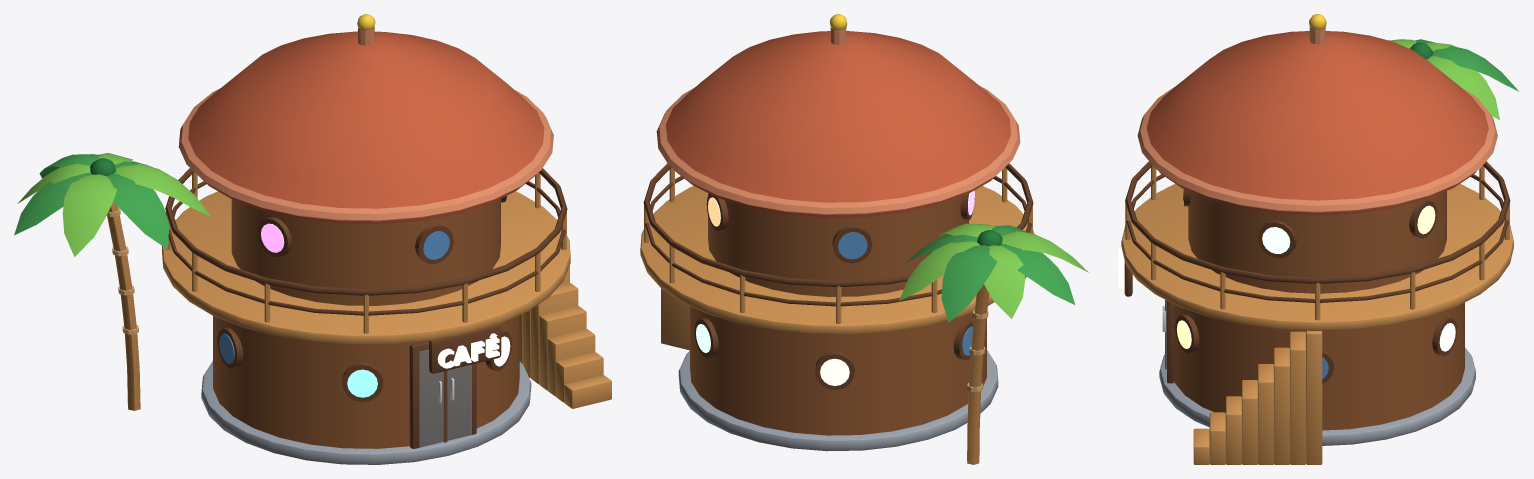
The model's file is cabana_redonda.glb.
3 views of the same model, side by side, from view 1: azimuth 30°, elevation 25°; view 2: azimuth 150°, elevation 25°; view 3: azimuth 270°, elevation 25° (orthographic). The views are drawn at different scales.
Visible parts, largest first — view 1: cabana_redonda; view 2: cabana_redonda; view 3: cabana_redonda.
Part boxes in pixels (left/top/right/bottom): cabana_redonda: left=14, top=14, right=611, bottom=464; cabana_redonda: left=640, top=14, right=1088, bottom=464; cabana_redonda: left=1118, top=14, right=1519, bottom=464.
Bounding box in the file's own units: 11.9 × 9.05 × 9.
Materials: 9 (1 with a texture image).
